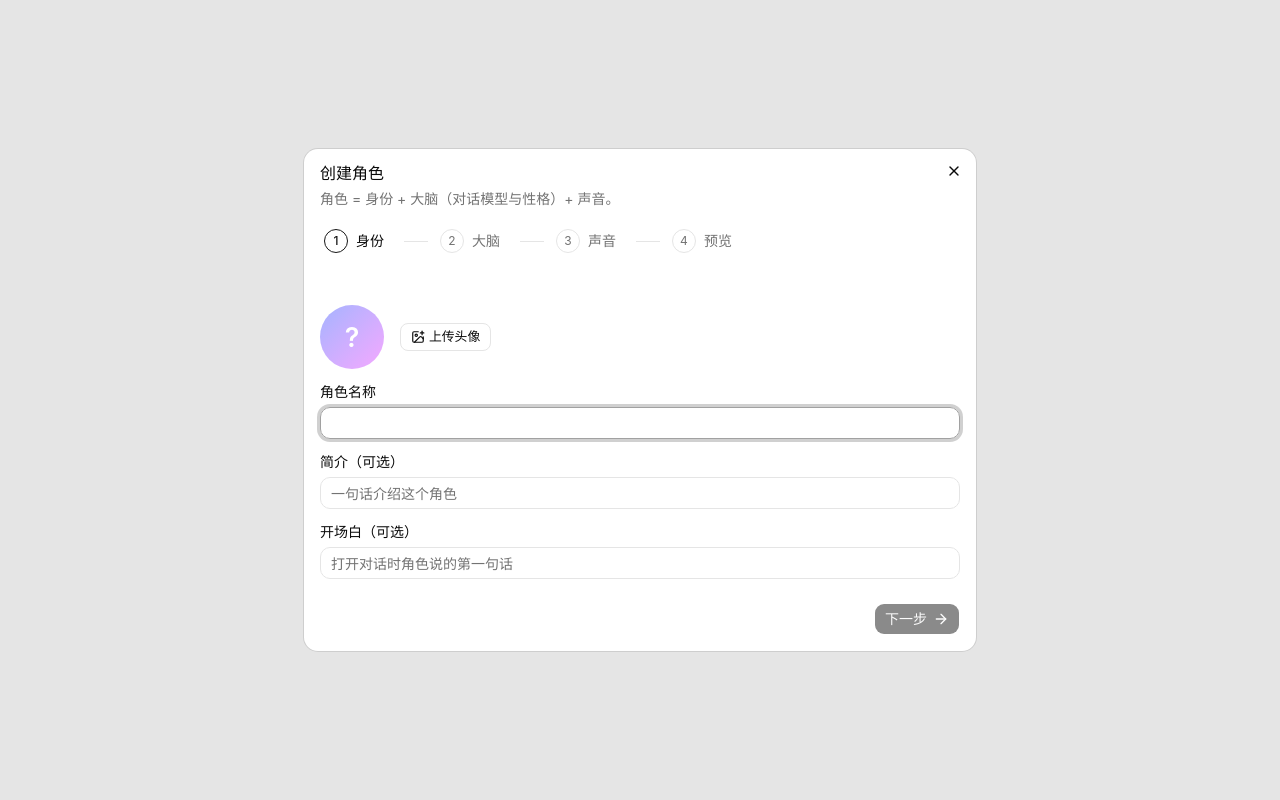
Scenario: character wizard validation › cannot advance without a name
Check: the button "下一步" is disabled, box [874, 603, 960, 635]
In the field labelled "角色名称": (640, 423) [320, 407, 960, 439], type "小测"
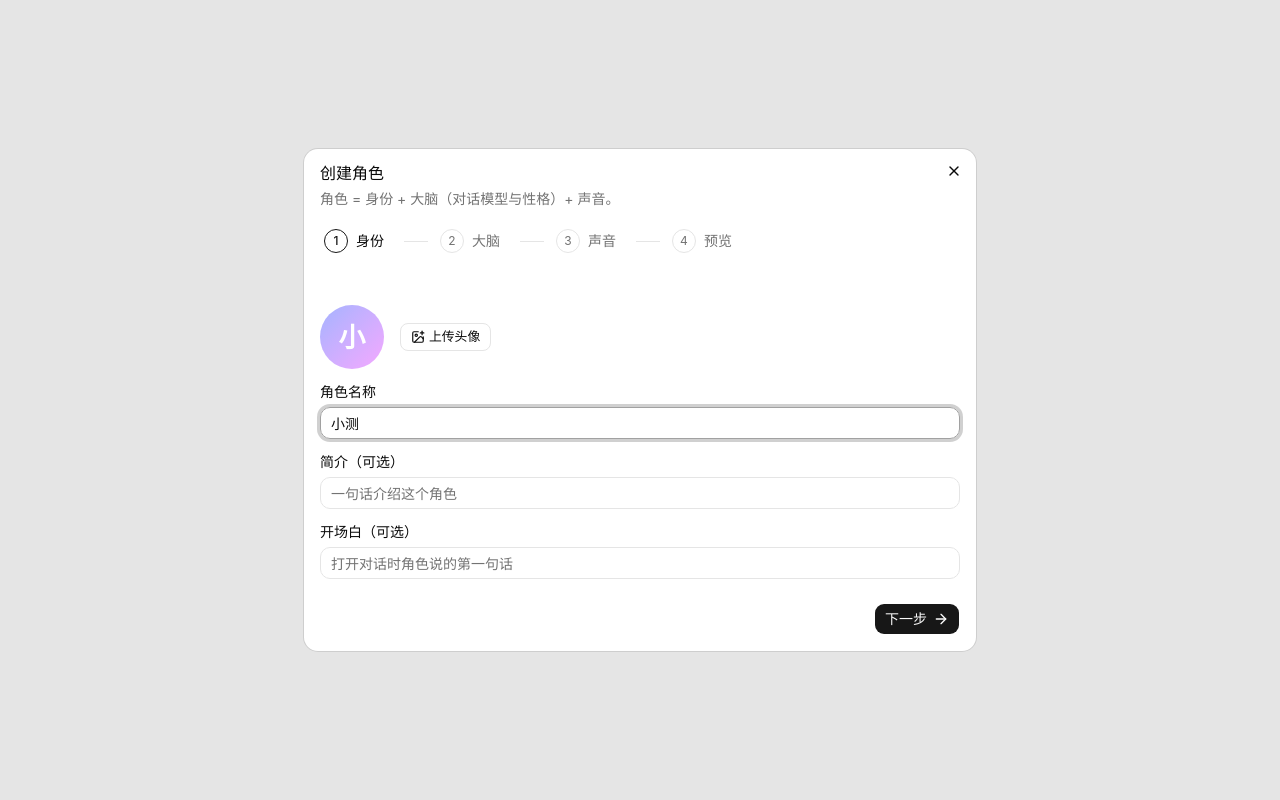
Check: the button "下一步" is enabled, box [874, 603, 960, 635]
